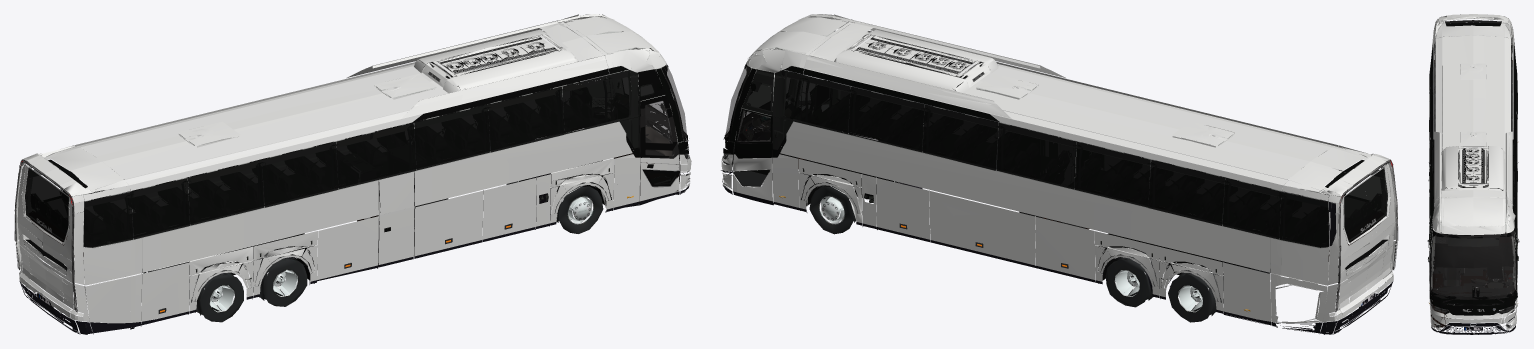
The model's file is avtobus.glb.
The picture shows the model from 3 angles, left to right: view 1: azimuth 30°, elevation 25°; view 2: azimuth 150°, elevation 25°; view 3: azimuth 270°, elevation 25°; orthographic projection. The views are drawn at different scales.
Visible parts, largest first — view 1: Object_5; view 2: Object_5; view 3: Object_5.
Part boxes in pixels (box(x1,y1,x2,y2)): Object_5: box(14, 14, 691, 334); Object_5: box(721, 14, 1398, 334); Object_5: box(1427, 14, 1519, 334).
Bounding box in the file's own units: 12.64 × 3.32 × 2.26.
Materials: 26 (26 with a texture image).
